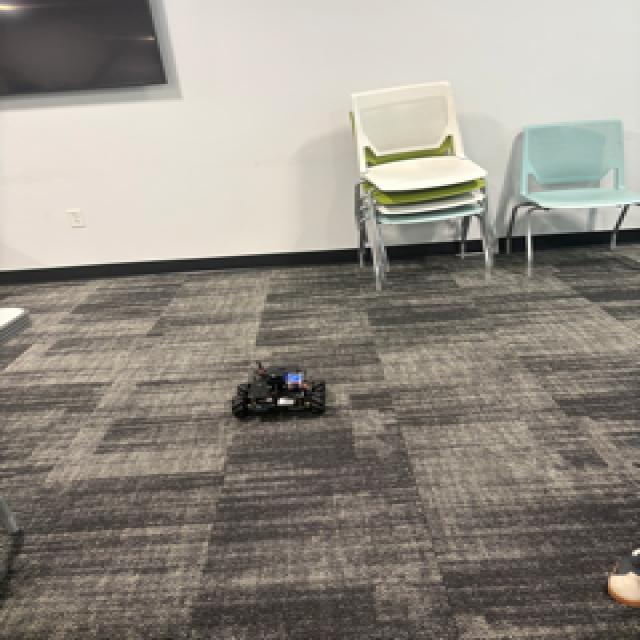ArduinoCar3: (231, 362, 328, 422)
